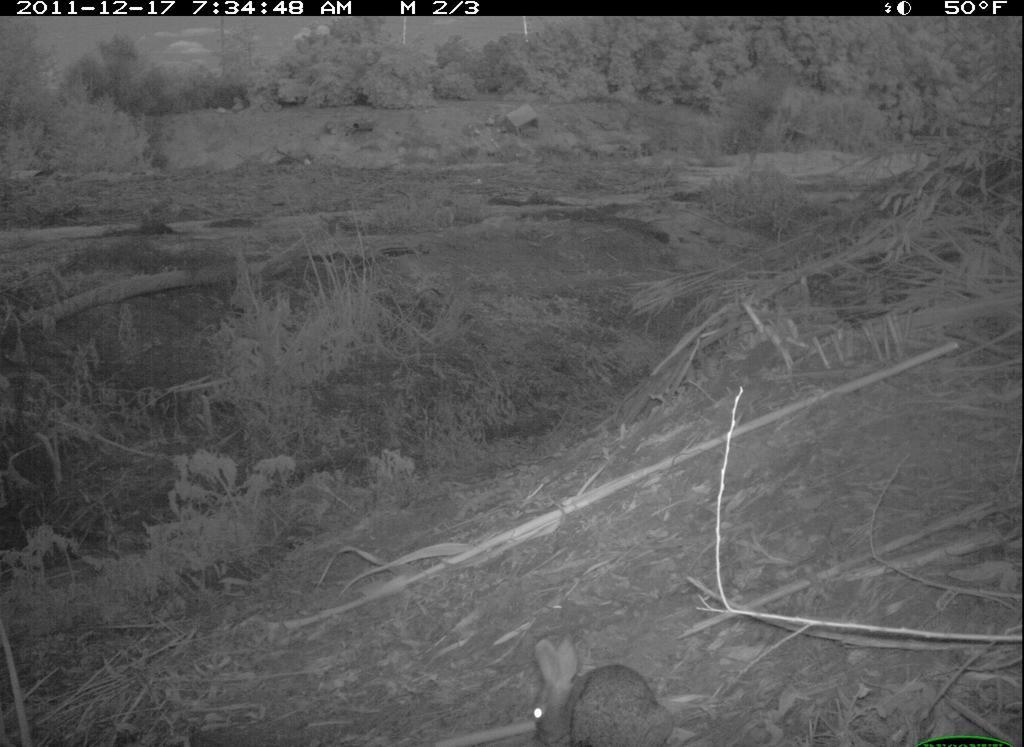rabbit: (524, 628, 689, 737)
